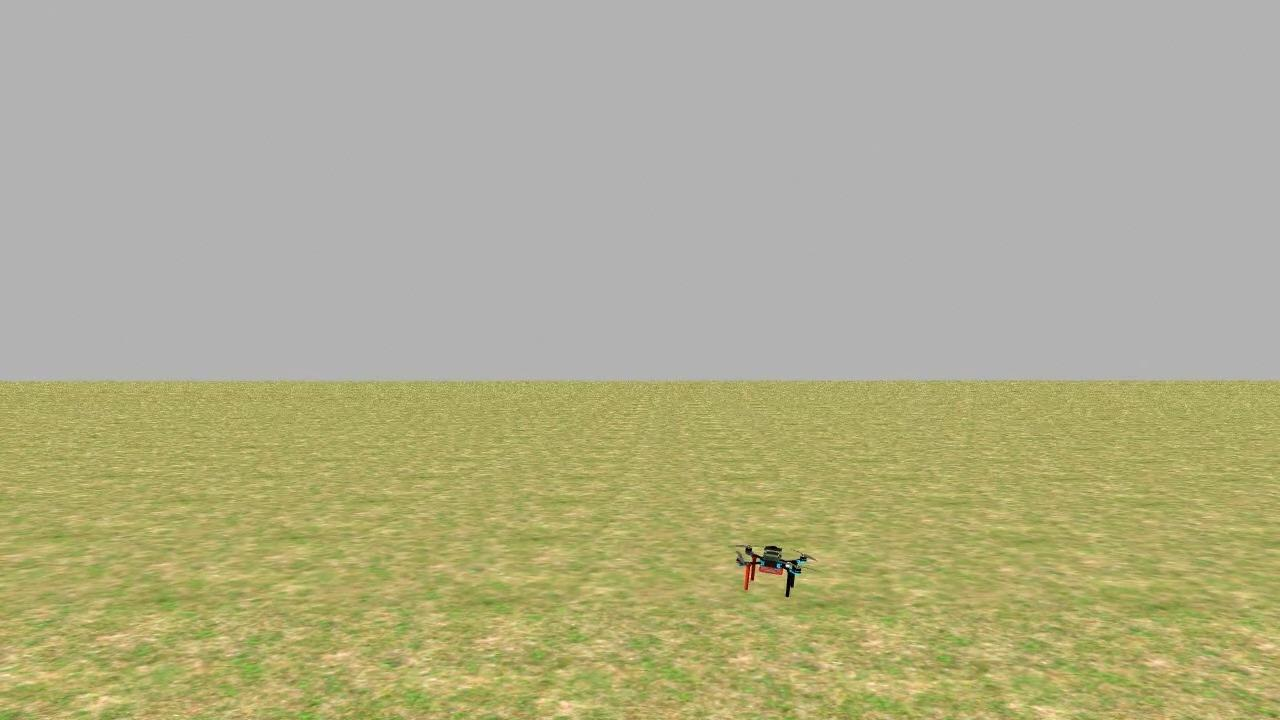UAV: (724, 535, 816, 604)
